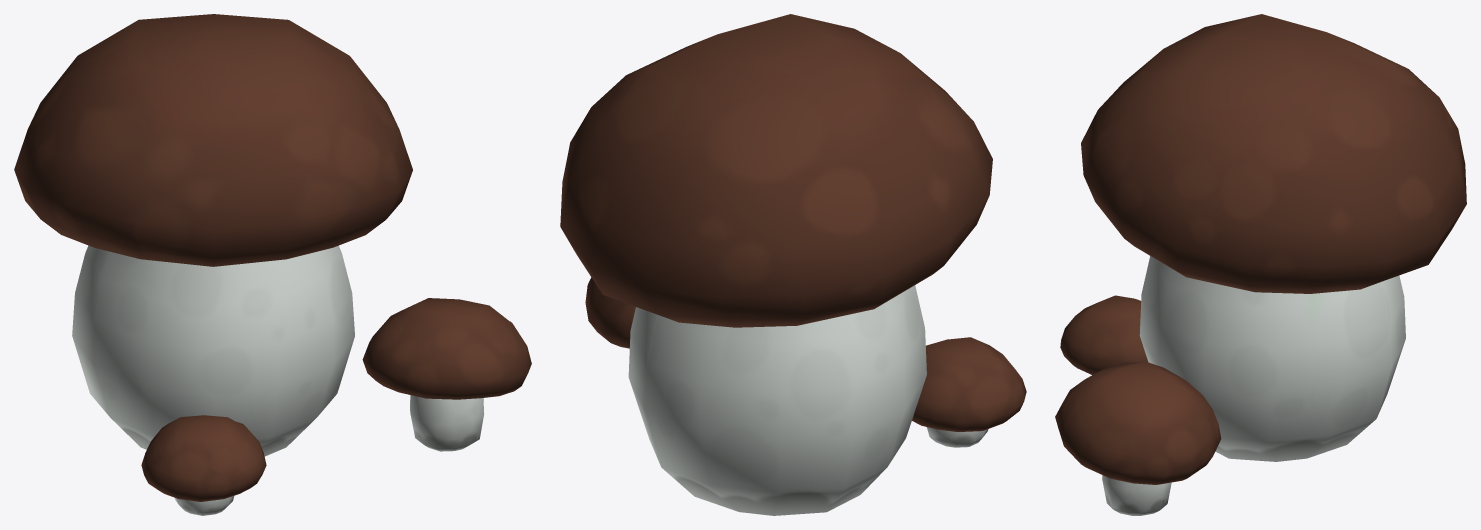
The model's file is mushroom3.glb.
3 views of the same model, side by side, from view 1: azimuth 30°, elevation 25°; view 2: azimuth 150°, elevation 25°; view 3: azimuth 270°, elevation 25° (orthographic). The views are drawn at different scales.
Visible parts, largest first — view 1: Object_3; view 2: Object_3; view 3: Object_3.
Boxes of the visible parts, box(x1,y1,x2,y2) form: Object_3: box(14, 14, 531, 515); Object_3: box(560, 14, 1026, 515); Object_3: box(1055, 14, 1466, 515).
Size of the model in its own units: 0.7199 by 0.6587 by 0.6443.
1 material, 1 textured.
